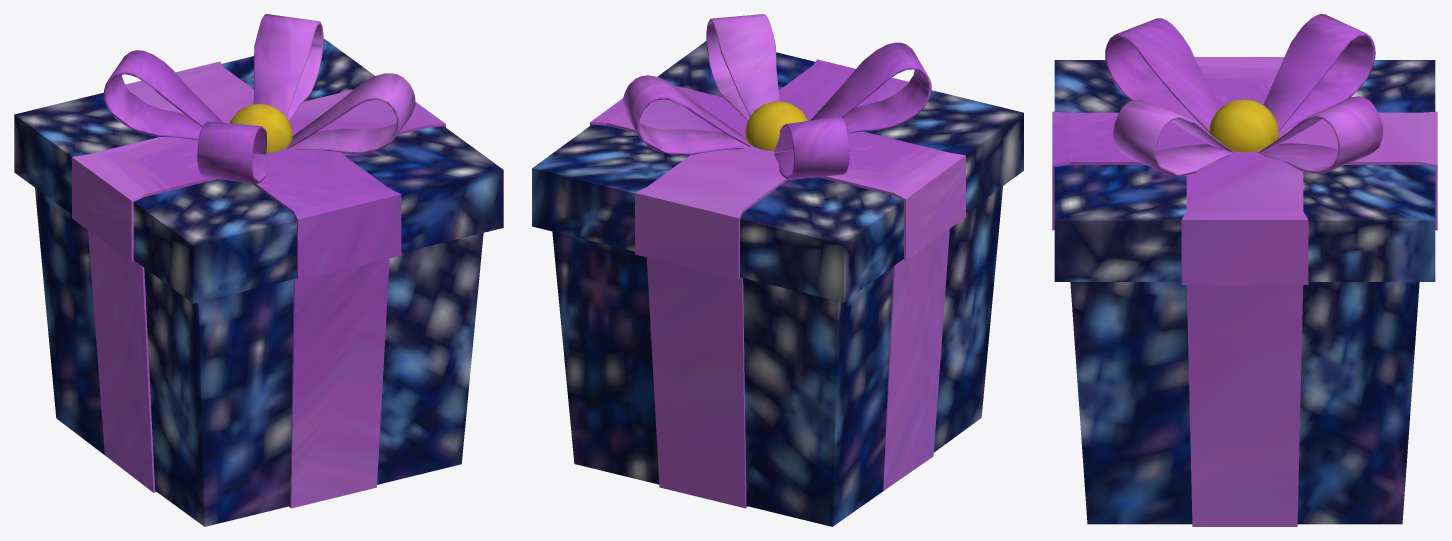
Rendered from D_SYMBOL.glb.
3 views of the same model, side by side, from view 1: azimuth 30°, elevation 25°; view 2: azimuth 150°, elevation 25°; view 3: azimuth 270°, elevation 25° (orthographic). The views are drawn at different scales.
Parts seen in each view (by area): view 1: Giftbox_1_0; view 2: Giftbox_1_0; view 3: Giftbox_1_0.
Boxes of the visible parts, x1,y1,x2,y2 form: Giftbox_1_0: (14,14,503,526); Giftbox_1_0: (532,14,1023,526); Giftbox_1_0: (1052,14,1437,526).
Size of the model in its own units: 0.6604 by 0.7456 by 0.6604.
1 material, 1 textured.
